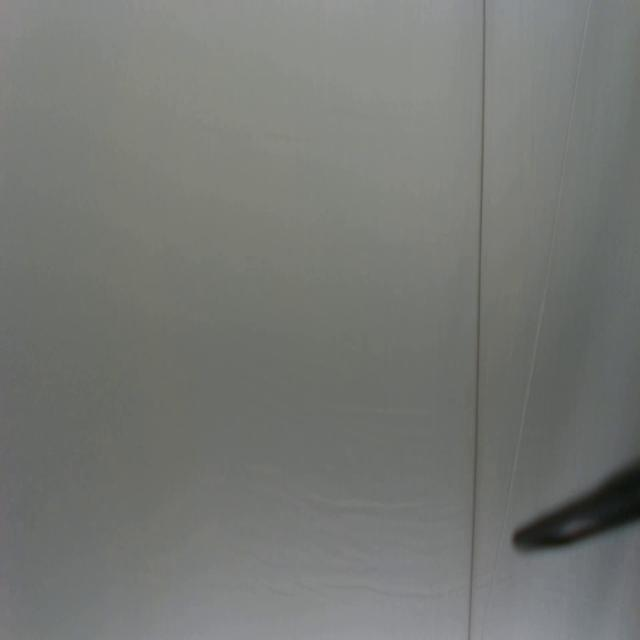crease: (512, 0, 592, 481), (466, 0, 489, 640)
